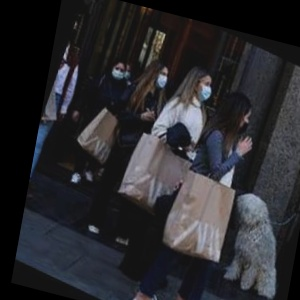zara: (140, 111, 300, 300), (112, 85, 229, 259), (85, 64, 151, 203)
